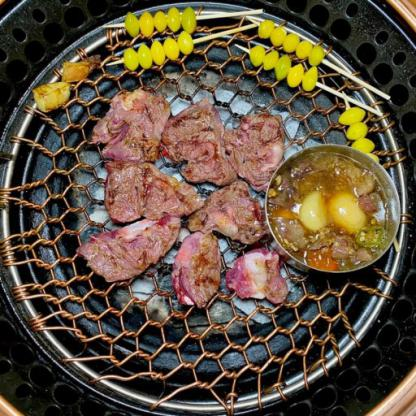Carne: (80, 209, 175, 290), (159, 104, 245, 184), (90, 88, 166, 169), (98, 161, 195, 222), (191, 176, 274, 245), (225, 112, 283, 188), (169, 230, 224, 310)
